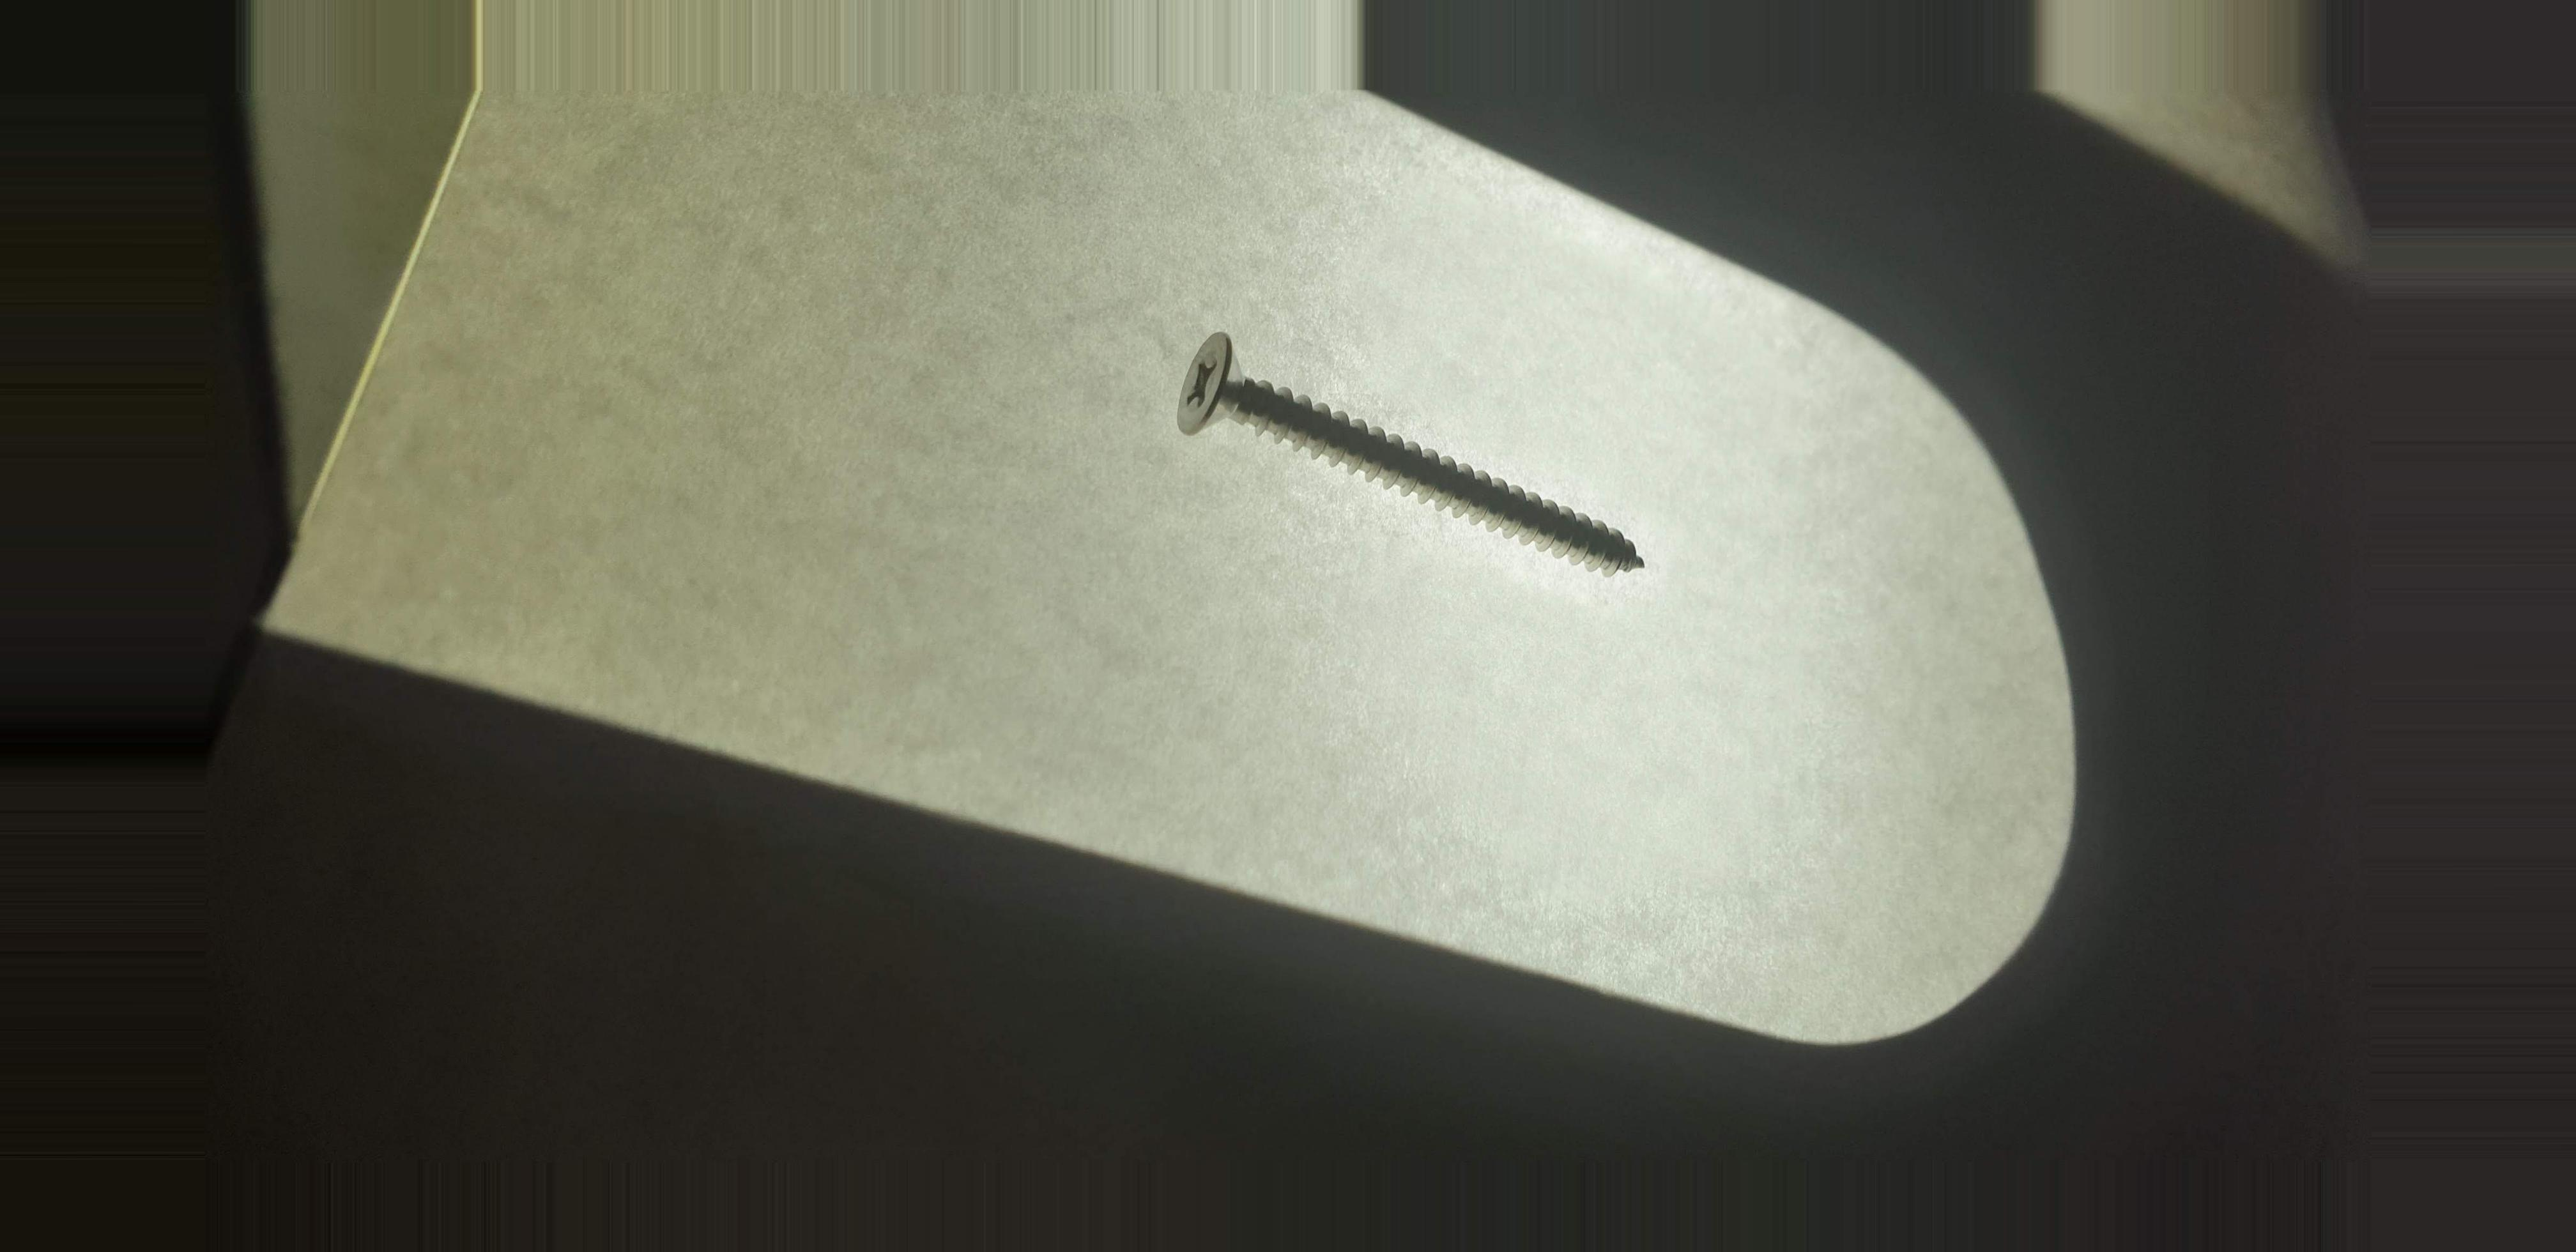S001: (1150, 273, 1687, 641)
